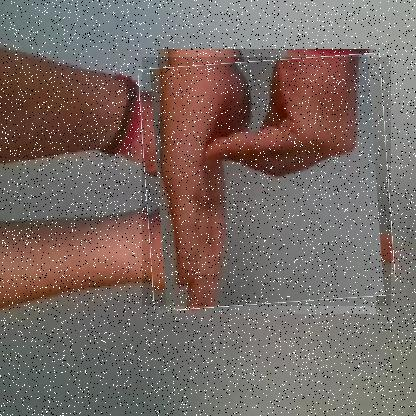Z: (142, 57, 392, 307)
